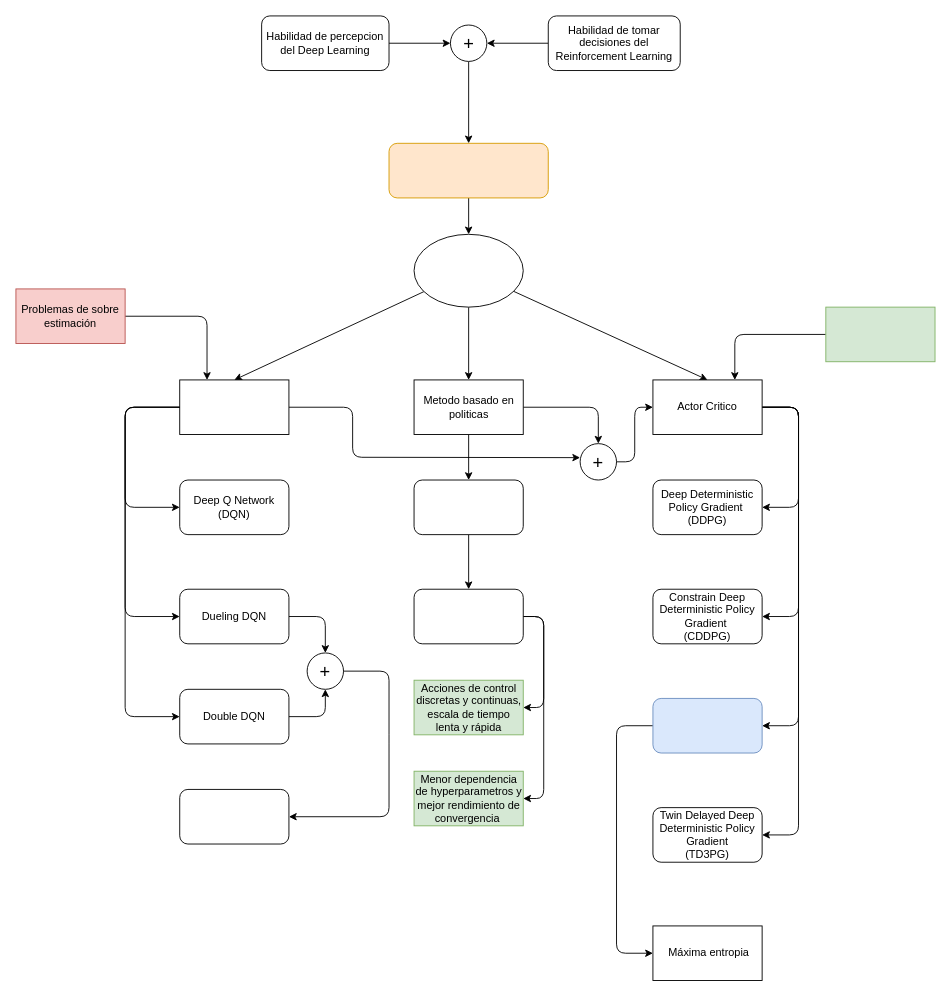
Some shapes in this 951 by 996 pixel diagram are drawn without their labels. Each missing label, with the centre of its shape:
"Algoritmos" belongs at [468,270].
"Basado en Policy Gradient (PG)" belongs at [468,507].
"D3QN" belongs at [234,816].
"Deep Reinforcement Learning" belongs at [468,170].
"Mejor rendimiento de convergencia" belongs at [880,334].
"Metodo basado en valores" belongs at [234,407].
"Proximal Policy Optimization (PPO)" belongs at [468,616].
"Soft Actor Critic" belongs at [707,725].
